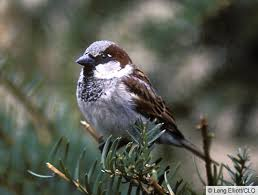hsparrow: (73, 37, 224, 166)
